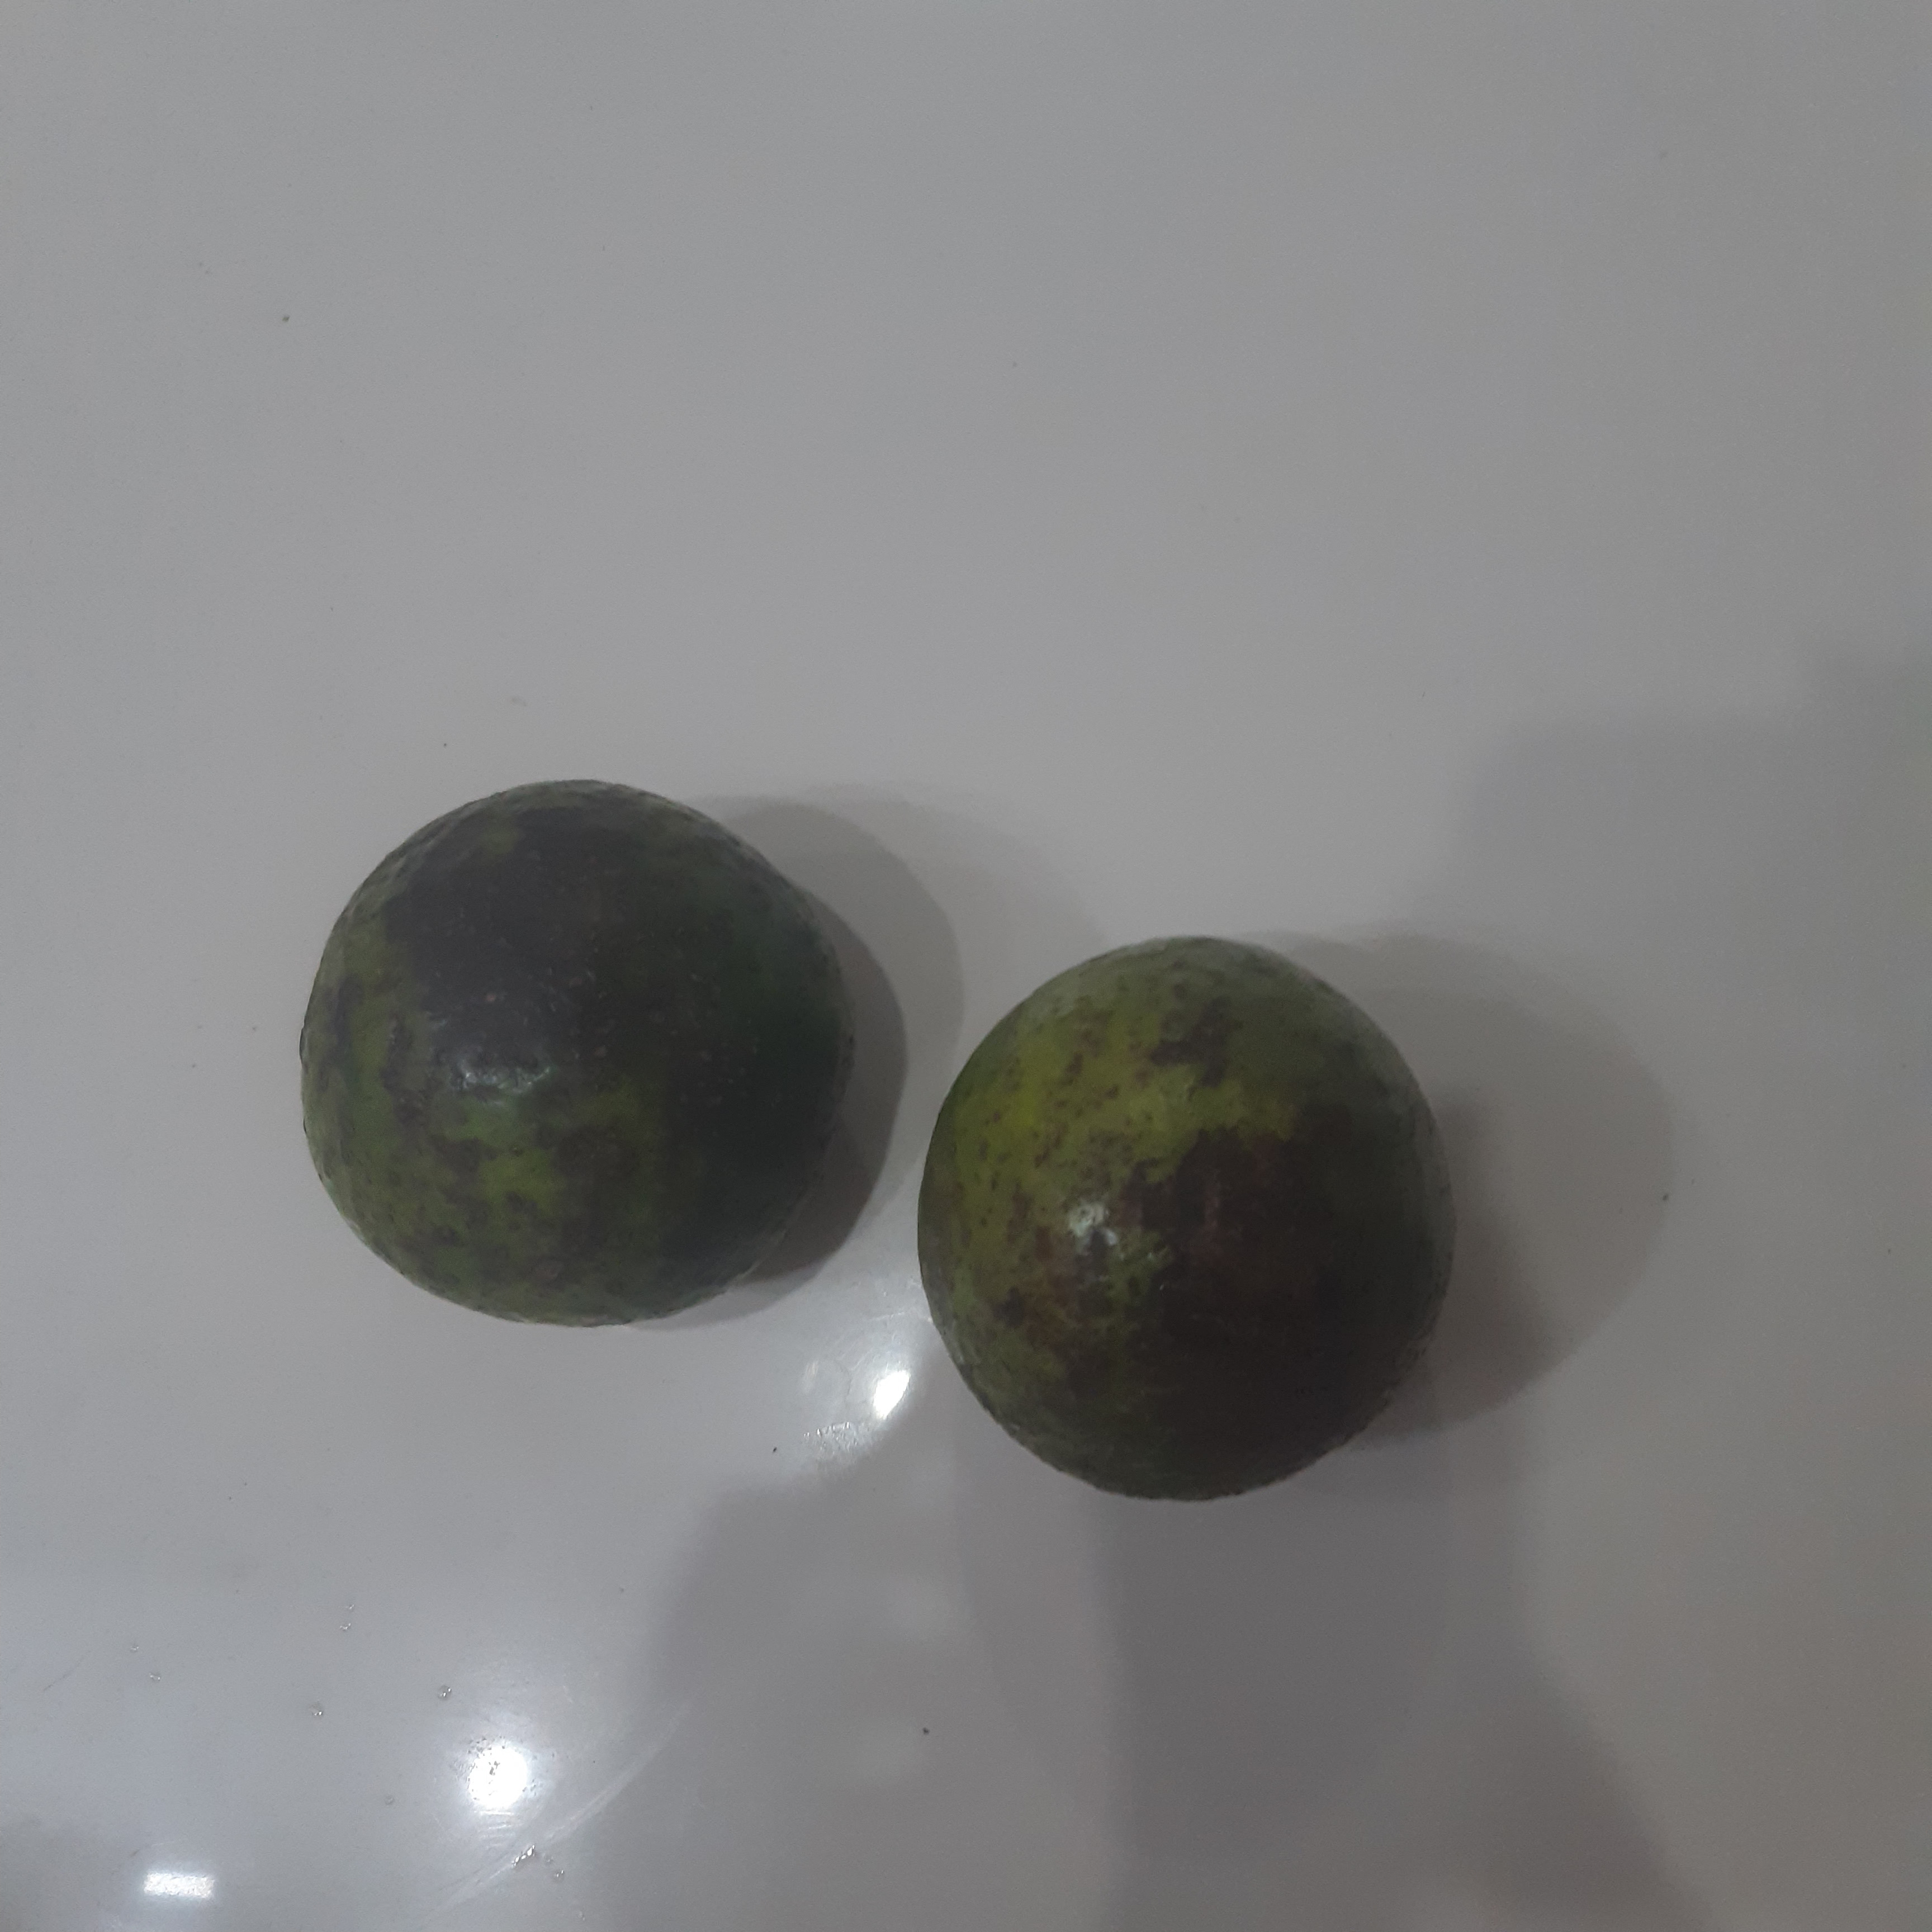Bo: (294, 775, 858, 1329), (916, 931, 1449, 1502)
